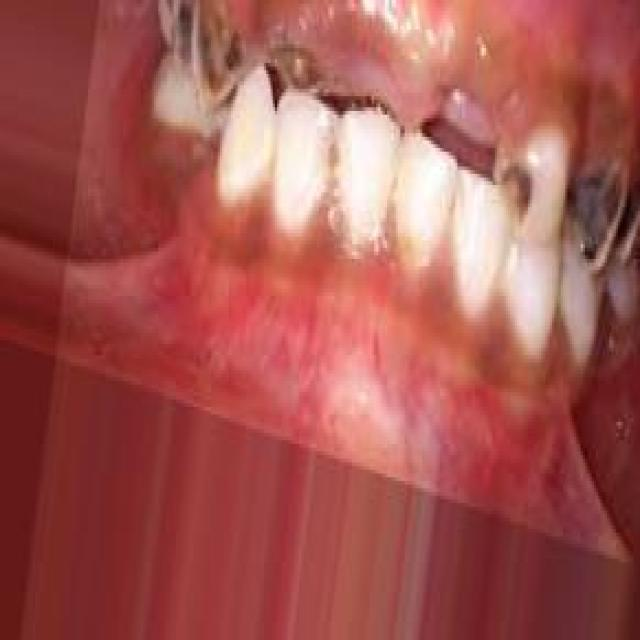caries: (566, 142, 634, 278), (495, 118, 565, 250), (189, 0, 250, 107), (270, 29, 336, 119)
